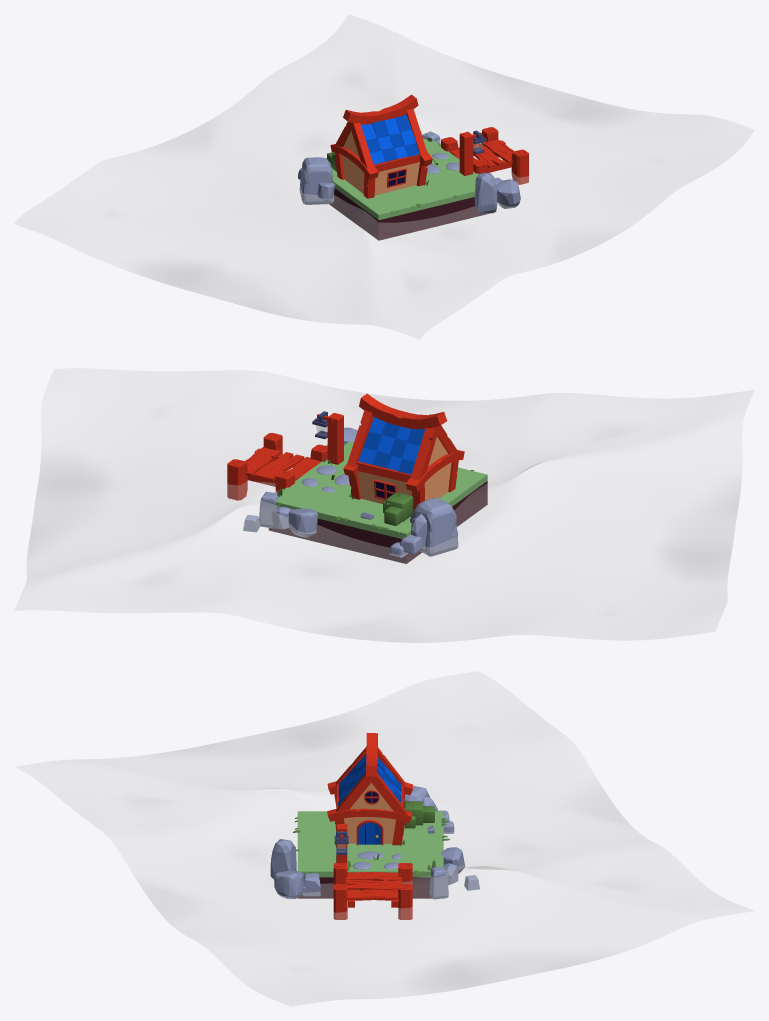
The model's file is casa.glb.
3 renders of one model, top to bottom at view 1: azimuth 30°, elevation 25°; view 2: azimuth 150°, elevation 25°; view 3: azimuth 270°, elevation 25°, orthographic. The views are drawn at different scales.
Parts seen in each view (by area): view 1: Sea, Base, PAREDES, Cubo.056, Cubo.004, Cubo.103, Cubo.046, Cubo.102, Cubo.045; view 2: Sea, Base, Cubo.056, PAREDES, Cubo.004, Cubo.046, Cubo, Cubo.055, Cubo.006, Cubo.041, Cubo.026, Cubo.005 (+4 smaller); view 3: Sea, Base, PAREDES, Cubo.103, Cubo.102, Cubo.001, puerta, Cubo.038, Cubo.052.
Part boxes in pixels (<box>): Sea: <box>14,14,754,339</box>; Base: <box>329,138,496,240</box>; PAREDES: <box>342,130,419,195</box>; Cubo.056: <box>299,157,334,204</box>; Cubo.004: <box>343,94,418,124</box>; Cubo.103: <box>474,172,497,213</box>; Cubo.046: <box>459,131,473,175</box>; Cubo.102: <box>496,179,520,208</box>; Cubo.045: <box>511,149,528,184</box>; Sea: <box>14,368,754,642</box>; Base: <box>268,441,487,563</box>; Cubo.056: <box>410,497,458,556</box>; PAREDES: <box>357,436,451,503</box>; Cubo.004: <box>359,393,446,429</box>; Cubo.046: <box>327,413,343,464</box>; Cubo: <box>227,459,247,500</box>; Cubo.055: <box>288,508,317,537</box>; Cubo.006: <box>410,426,439,480</box>; Cubo.041: <box>255,452,304,481</box>; Cubo.026: <box>405,450,464,492</box>; Cubo.005: <box>347,410,373,466</box>; Sea: <box>15,671,752,1006</box>; Base: <box>297,811,443,898</box>; PAREDES: <box>344,783,395,843</box>; Cubo.103: <box>270,839,296,879</box>; Cubo.102: <box>274,870,303,898</box>; Cubo.001: <box>327,808,412,823</box>; puerta: <box>356,820,383,845</box>; Cubo.038: <box>346,889,399,900</box>; Cubo.052: <box>429,866,448,899</box>.
Size of the model in its own units: 70.84 by 10.61 by 66.1.
